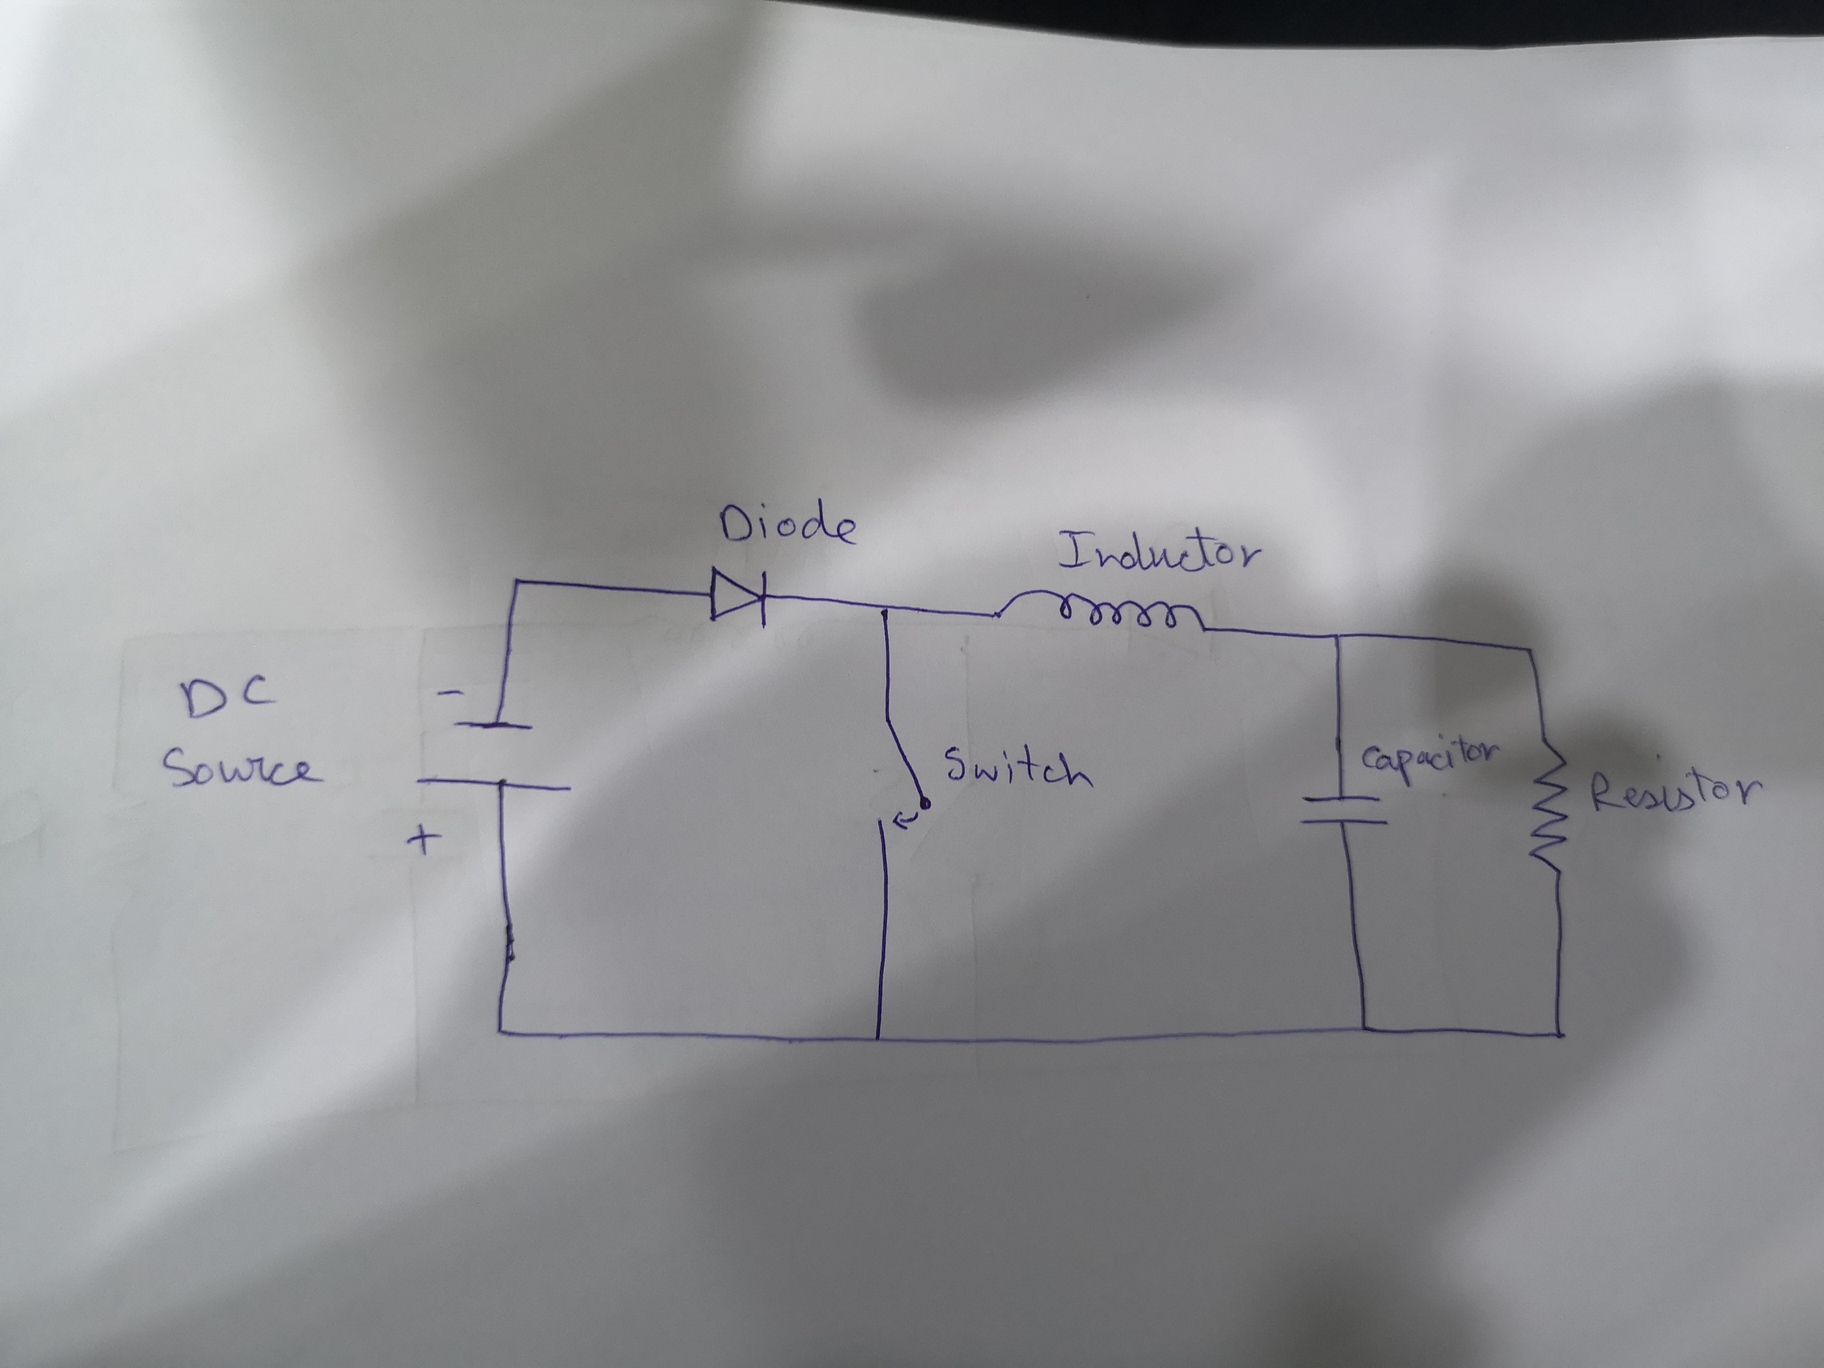capacitor.unpolarized: (1295, 789, 1389, 833)
diode: (699, 562, 774, 634)
inductor: (990, 583, 1212, 639)
junction: (481, 1013, 520, 1048), (500, 568, 536, 601), (869, 596, 901, 625), (1351, 1015, 1379, 1043), (862, 1025, 889, 1050), (1517, 639, 1541, 664), (1545, 1020, 1570, 1045), (1324, 625, 1347, 648)
resistor: (1527, 741, 1576, 879)
switch: (865, 716, 936, 844)
text: (1051, 519, 1271, 578), (1587, 760, 1764, 813), (157, 741, 330, 793), (941, 741, 1099, 790), (712, 497, 860, 547), (1354, 734, 1501, 782), (172, 667, 280, 723)
voltage.dc: (398, 681, 582, 864)
